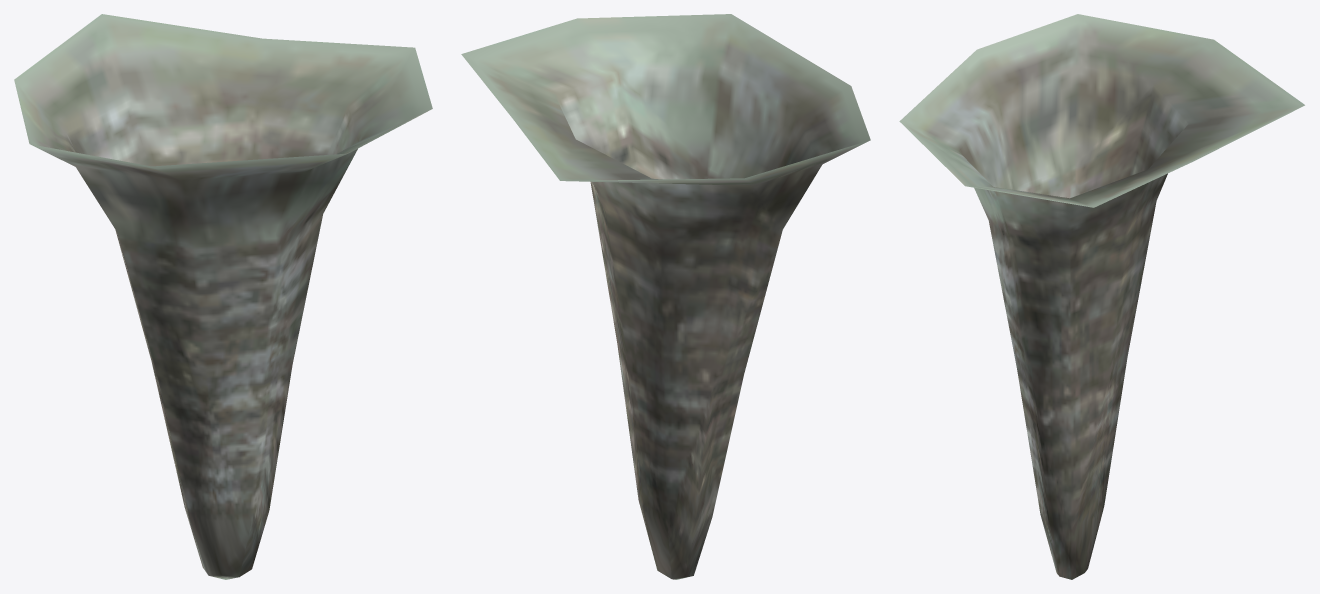
Rendered from TROLLHOLE02_PS-SECRETSTALAG18.fbx.
The picture shows the model from 3 angles, left to right: view 1: azimuth 30°, elevation 25°; view 2: azimuth 150°, elevation 25°; view 3: azimuth 270°, elevation 25°; orthographic projection. The views are drawn at different scales.
Visible parts, largest first — view 1: TROLLHOLE02_PS-SECRETSTALAG18; view 2: TROLLHOLE02_PS-SECRETSTALAG18; view 3: TROLLHOLE02_PS-SECRETSTALAG18.
Part boxes in pixels (x1,y1,x2,y2): TROLLHOLE02_PS-SECRETSTALAG18: (14, 14, 432, 579); TROLLHOLE02_PS-SECRETSTALAG18: (461, 14, 870, 579); TROLLHOLE02_PS-SECRETSTALAG18: (899, 14, 1304, 579).
Size of the model in its own units: 33078 by 38722 by 30154.
1 material, 1 textured.
